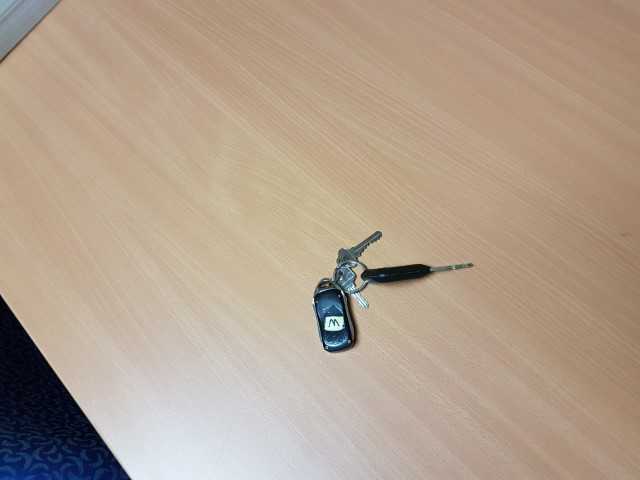key: (363, 262, 473, 282)
